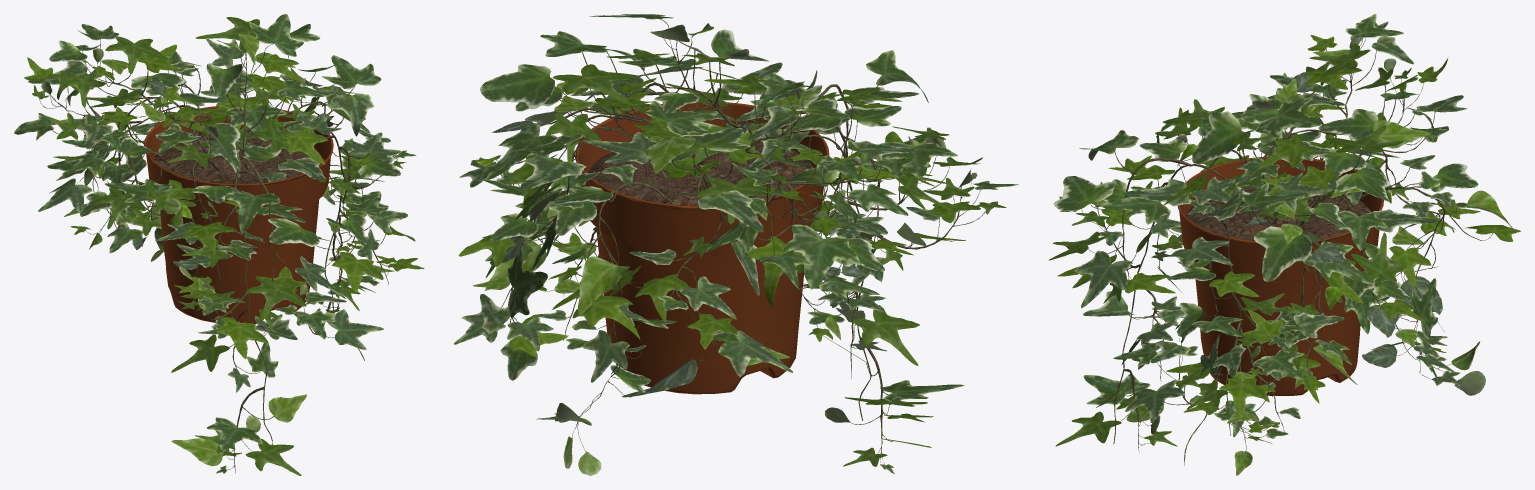
File: hedera_helix_roslina_doniczkowa_66804047.glb
3 views of the same model, side by side, from view 1: azimuth 30°, elevation 25°; view 2: azimuth 150°, elevation 25°; view 3: azimuth 270°, elevation 25° (orthographic). The views are drawn at different scales.
Visible parts, largest first — view 1: hedera_helix_roslina_doniczkowa_66804047; view 2: hedera_helix_roslina_doniczkowa_66804047; view 3: hedera_helix_roslina_doniczkowa_66804047.
Part boxes in pixels (bbox=[...]): hedera_helix_roslina_doniczkowa_66804047: bbox=[14, 14, 424, 475]; hedera_helix_roslina_doniczkowa_66804047: bbox=[454, 14, 1018, 475]; hedera_helix_roslina_doniczkowa_66804047: bbox=[1048, 14, 1520, 475].
Size of the model in its own units: 0.318 by 0.3347 by 0.3474.
Materials: 1 (1 with a texture image).
